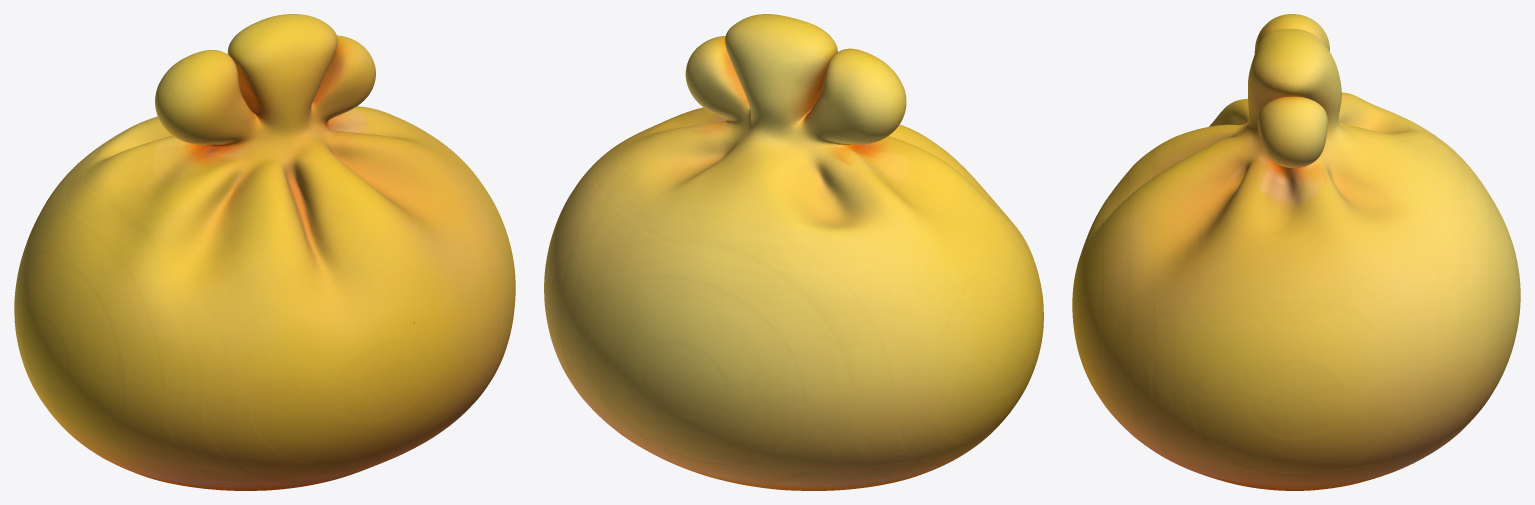
The model's file is dumpling.glb.
The picture shows the model from 3 angles, left to right: view 1: azimuth 30°, elevation 25°; view 2: azimuth 150°, elevation 25°; view 3: azimuth 270°, elevation 25°; orthographic projection. The views are drawn at different scales.
Visible parts, largest first — view 1: tripo_node_161a6bd5-ded1-4e21-aecf-2aeb914c7a8f; view 2: tripo_node_161a6bd5-ded1-4e21-aecf-2aeb914c7a8f; view 3: tripo_node_161a6bd5-ded1-4e21-aecf-2aeb914c7a8f.
Part boxes in pixels (x1,y1,x2,y2): tripo_node_161a6bd5-ded1-4e21-aecf-2aeb914c7a8f: [14, 14, 515, 490]; tripo_node_161a6bd5-ded1-4e21-aecf-2aeb914c7a8f: [544, 14, 1043, 490]; tripo_node_161a6bd5-ded1-4e21-aecf-2aeb914c7a8f: [1072, 14, 1520, 490].
Size of the model in its own units: 1 by 0.9661 by 0.8959.
1 material, 1 textured.
